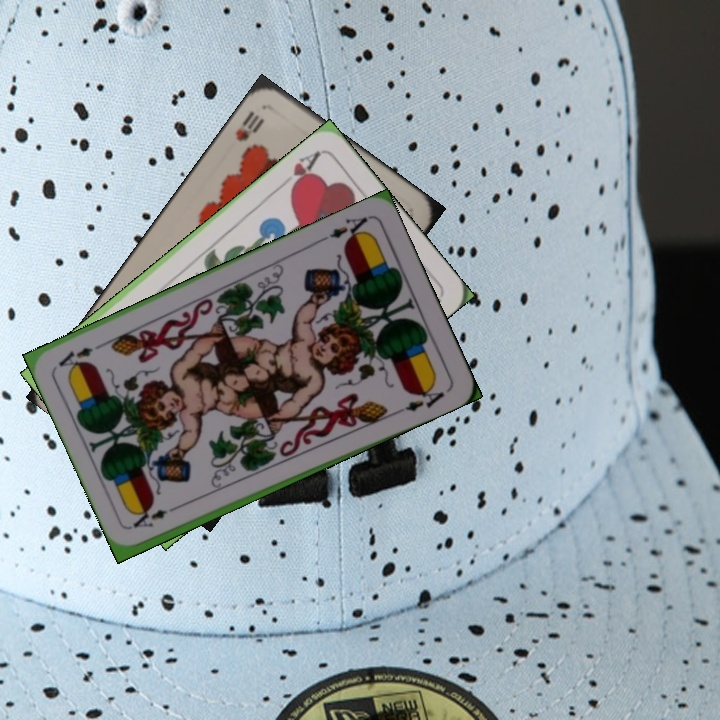EA: (129, 500, 184, 531), (326, 212, 372, 245)
H10: (230, 106, 267, 145)
HA: (286, 147, 324, 195)
